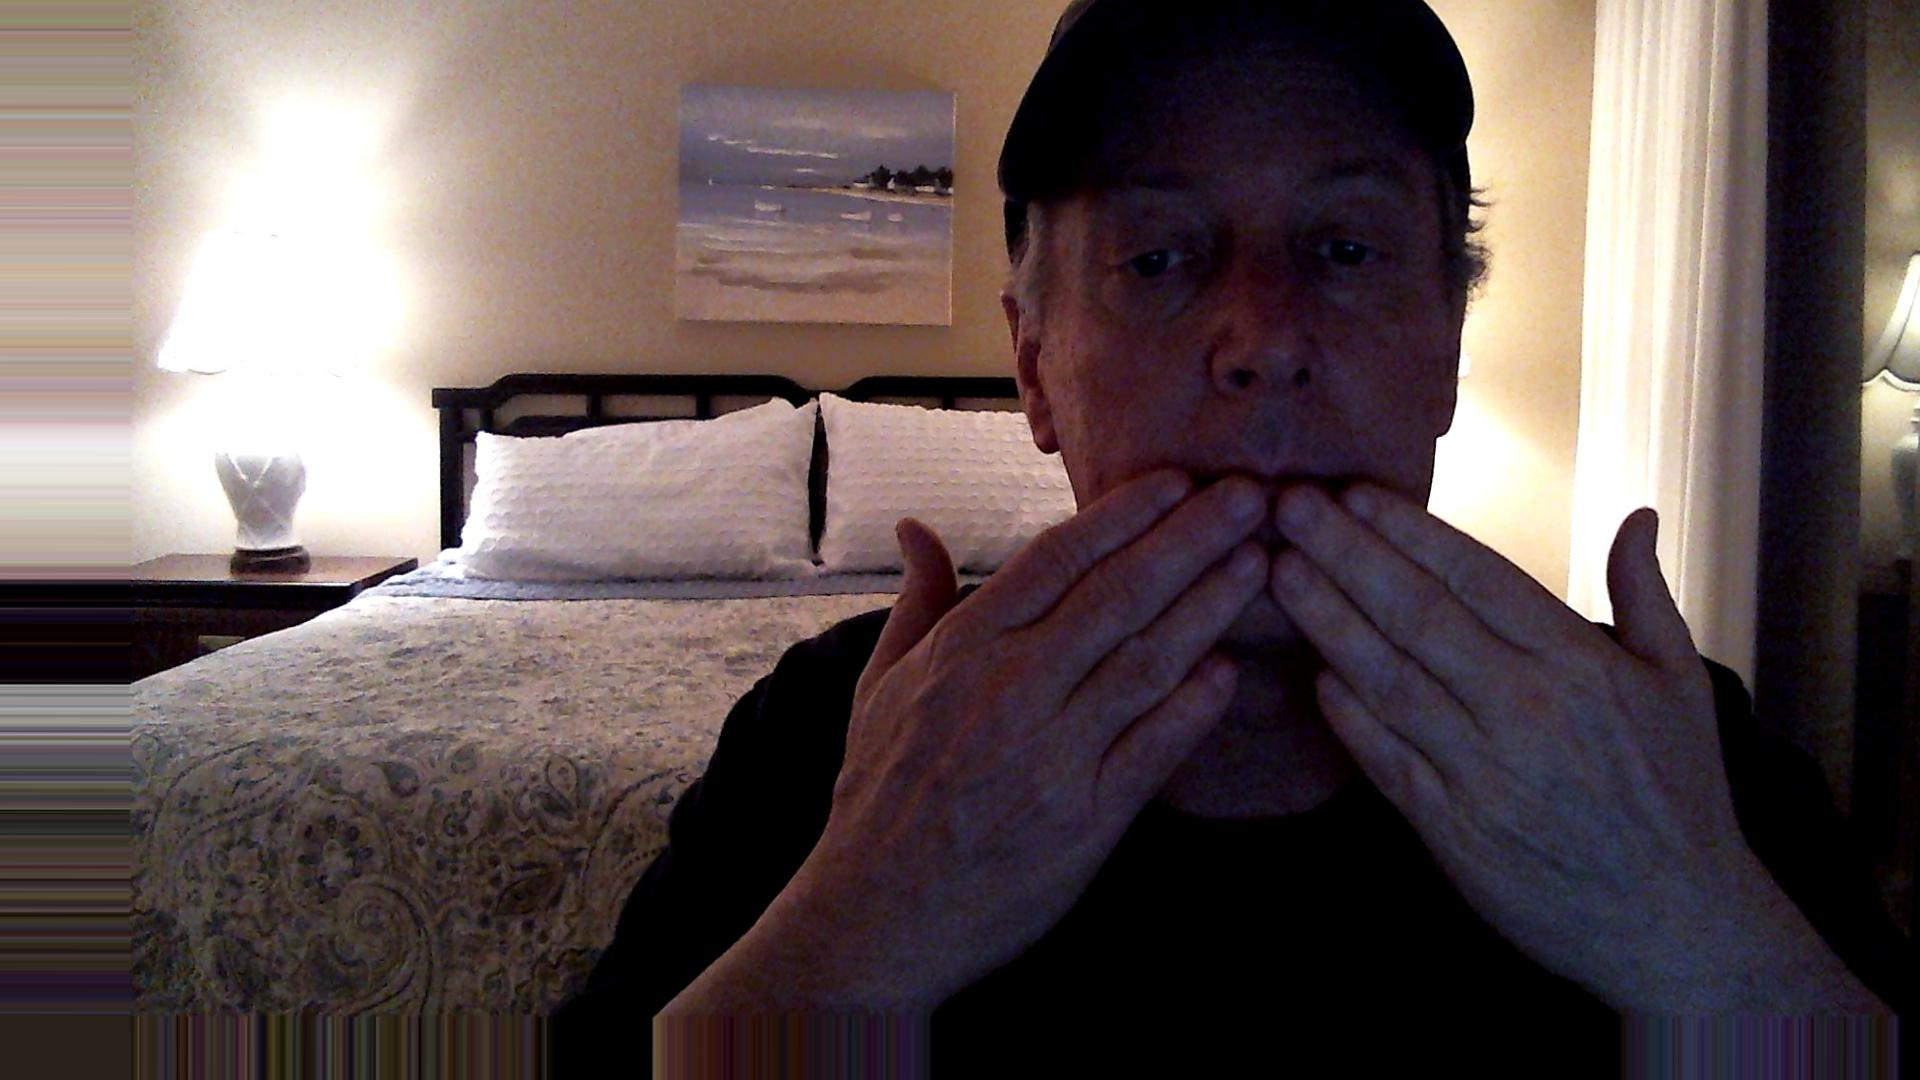Thank You: (808, 450, 1787, 976)
